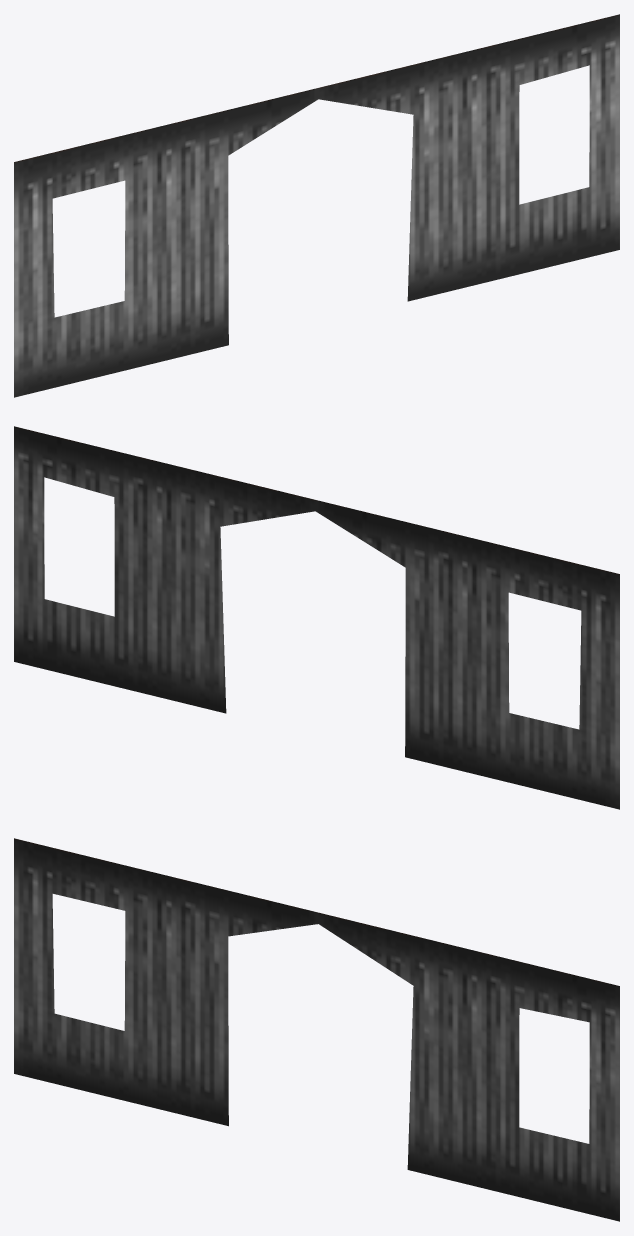
The model's file is W_AI1_fOf [Wellblech]_824.glb.
3 renders of one model, top to bottom at view 1: azimuth 30°, elevation 25°; view 2: azimuth 150°, elevation 25°; view 3: azimuth 330°, elevation 25°, orthographic.
Parts seen in each view (by area): view 1: polySurfaceShape908; view 2: polySurfaceShape908; view 3: polySurfaceShape908.
Boxes of the visible parts, x1,y1,x2,y2 form: polySurfaceShape908: [14, 14, 619, 397]; polySurfaceShape908: [14, 426, 619, 809]; polySurfaceShape908: [14, 838, 619, 1221].
Size of the model in its own units: 0.9385 by 0.3486 by 1.52e-08.
Materials: 1 (1 with a texture image).
